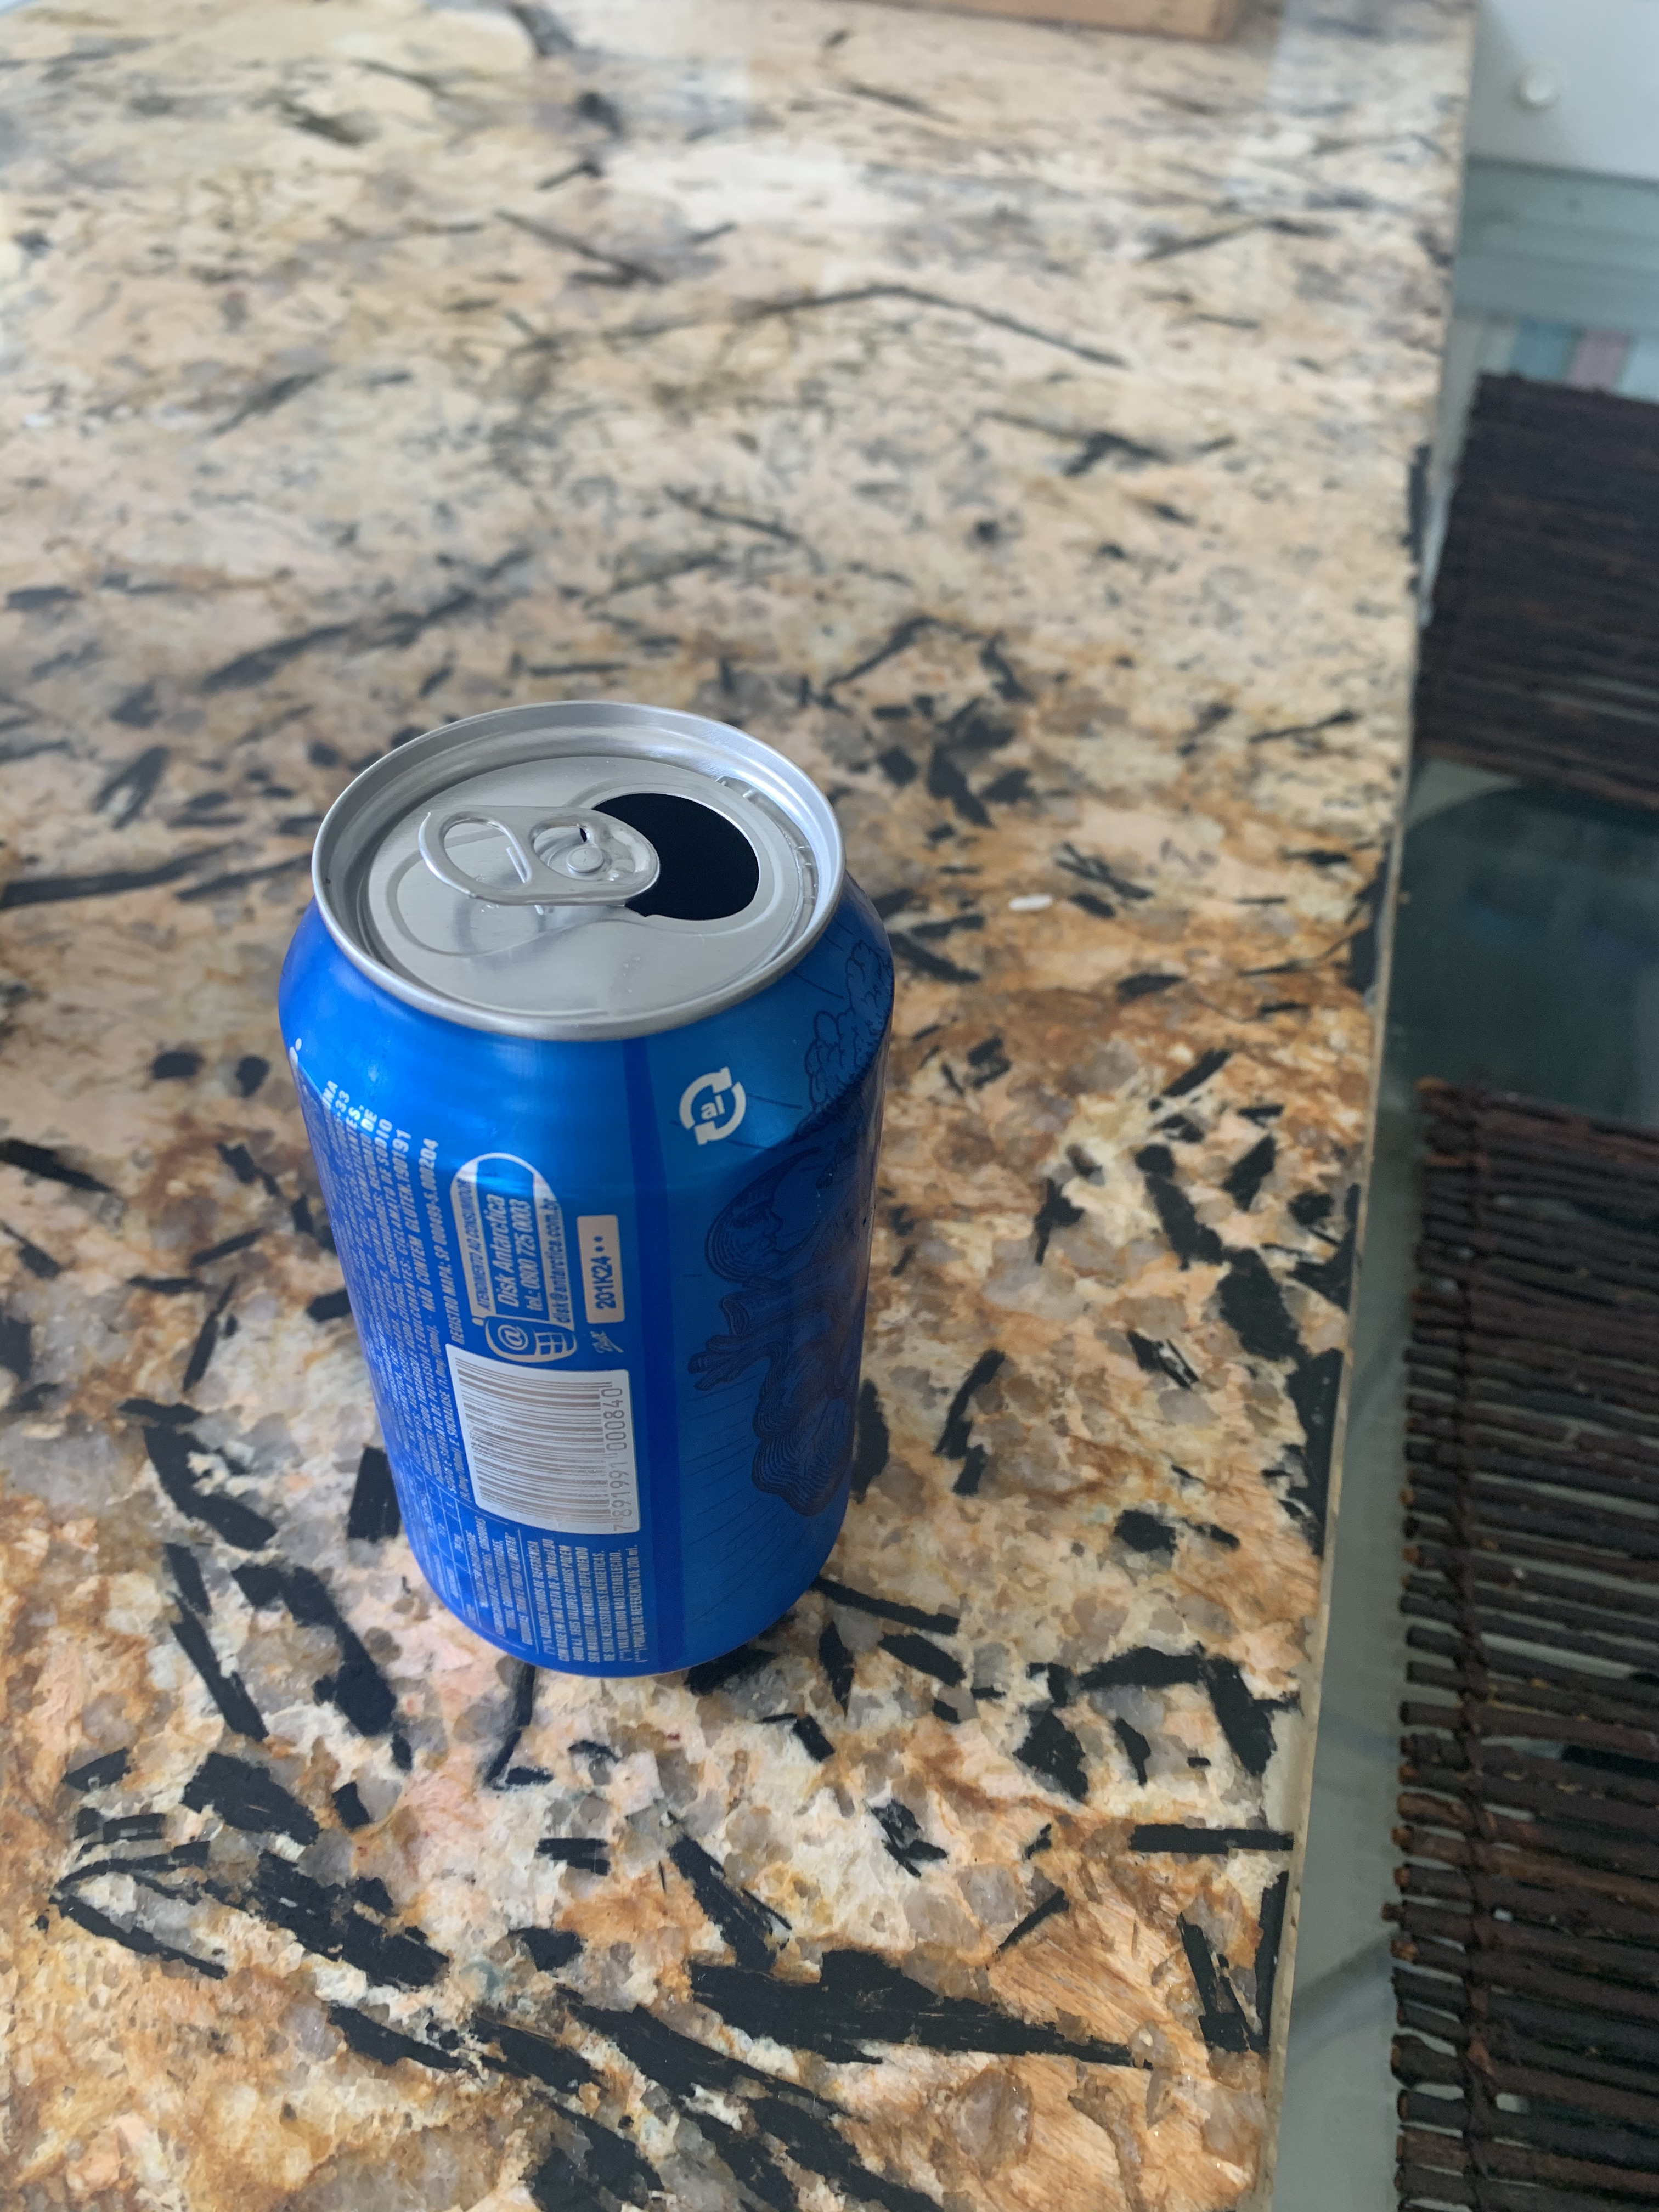tonica: (253, 702, 915, 1716)
